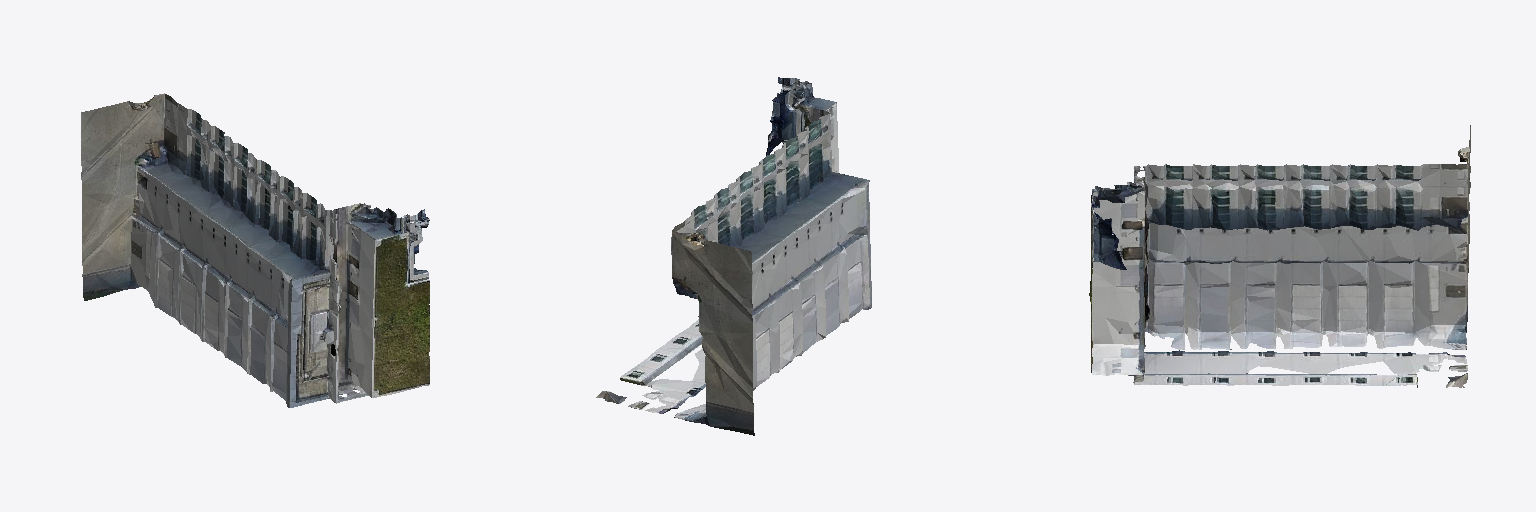
3 views of the same model, side by side, from view 1: azimuth 30°, elevation 25°; view 2: azimuth 150°, elevation 25°; view 3: azimuth 270°, elevation 25° (orthographic).
Visible parts, largest first — view 1: obj_0; view 2: obj_0; view 3: obj_0.
Part boxes in pixels (bbox=[...]): obj_0: bbox=[81, 93, 429, 407]; obj_0: bbox=[596, 77, 871, 435]; obj_0: bbox=[1089, 125, 1470, 387].
Size of the model in its own units: 20.08 by 22.53 by 41.73.
Materials: 1 (1 with a texture image).